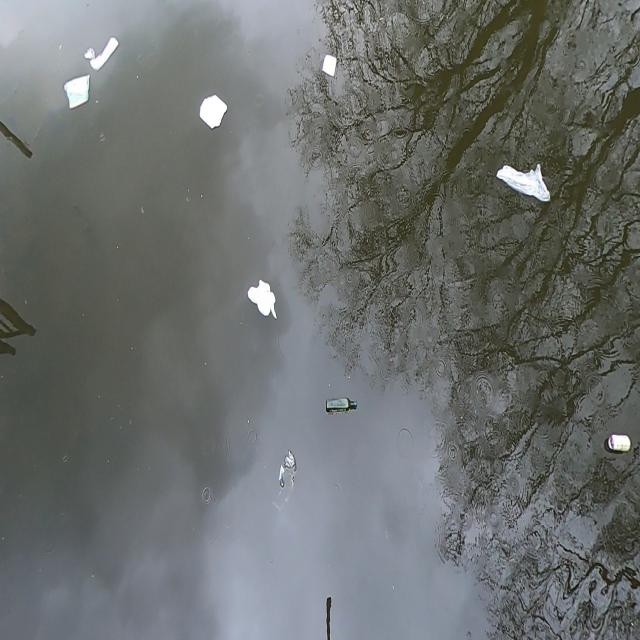Autre plastique: (244, 278, 280, 326), (196, 92, 231, 134), (320, 54, 338, 82)
Bouteille plastique: (324, 395, 360, 415)
Non plastique: (609, 431, 633, 456)
